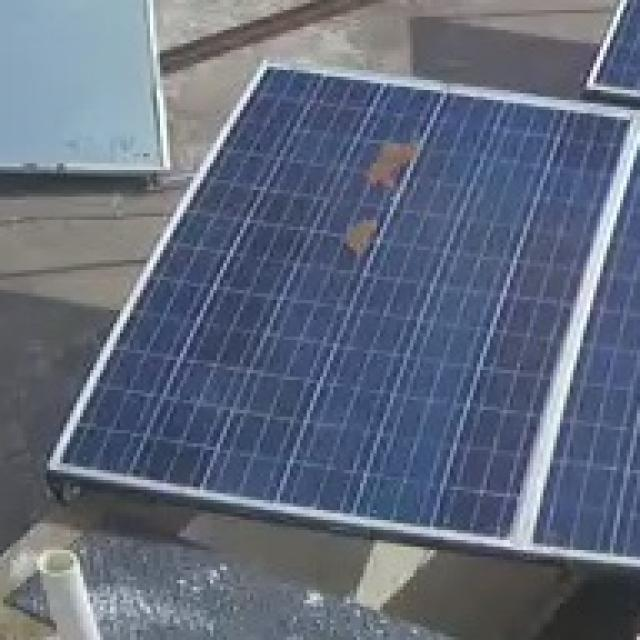Dusty: (358, 133, 424, 200), (325, 210, 388, 257)
